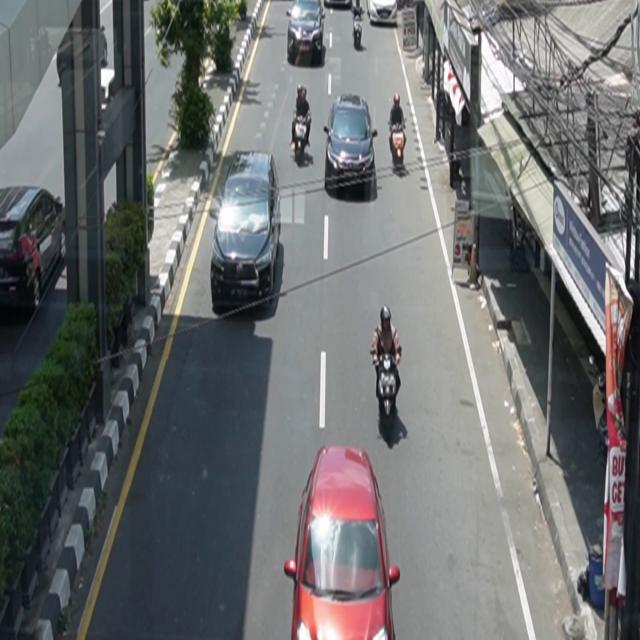car: (285, 446, 401, 640), (211, 150, 282, 312), (1, 184, 67, 312), (324, 93, 379, 186), (287, 1, 326, 66), (367, 1, 398, 26)
